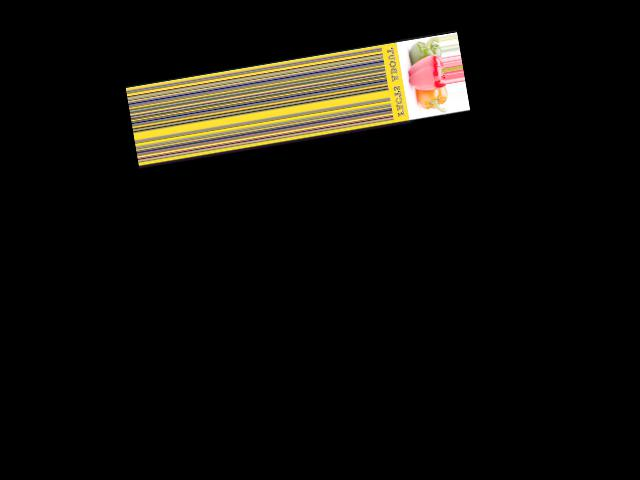bell_pepper: (402, 36, 441, 61)
